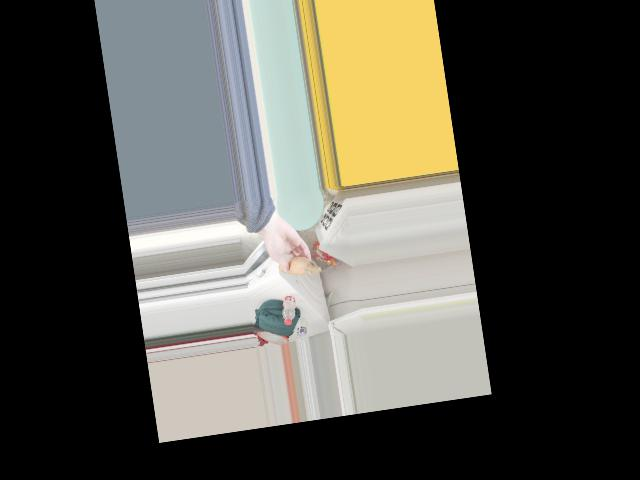sweet_potato: (280, 256, 313, 278)
